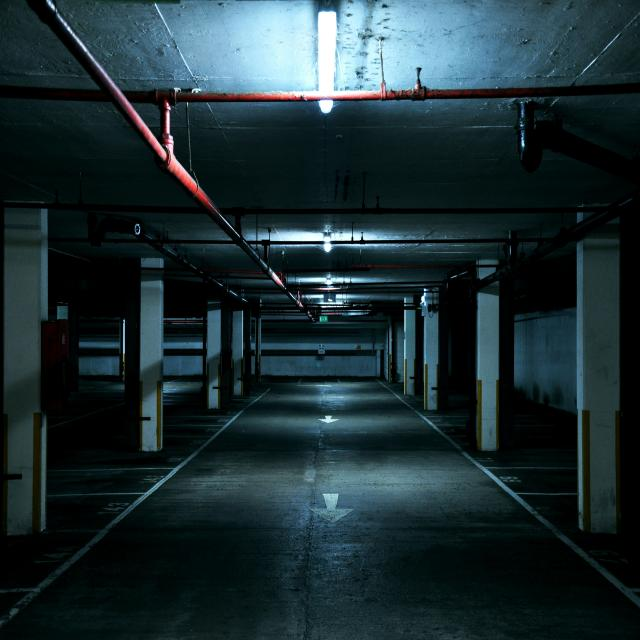pillar: (0, 209, 49, 535), (577, 222, 620, 533), (139, 258, 164, 452), (476, 292, 499, 451), (205, 300, 221, 409), (424, 307, 439, 410), (404, 309, 416, 395), (231, 311, 243, 395), (423, 293, 435, 305), (211, 344, 216, 351)
rebar: (0, 0, 640, 320), (0, 199, 510, 319), (515, 100, 640, 184), (550, 191, 638, 245), (220, 206, 564, 219)
